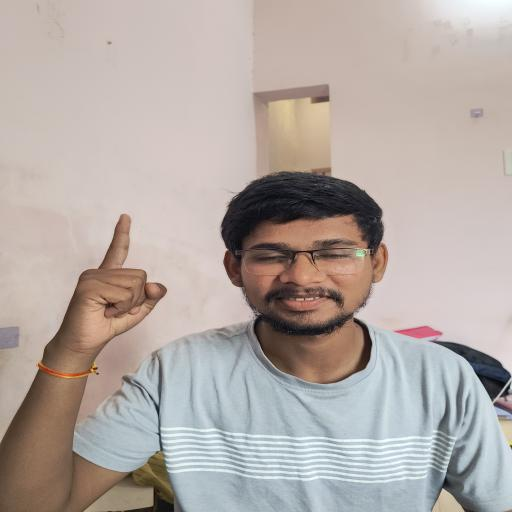What: (24, 202, 183, 410)
